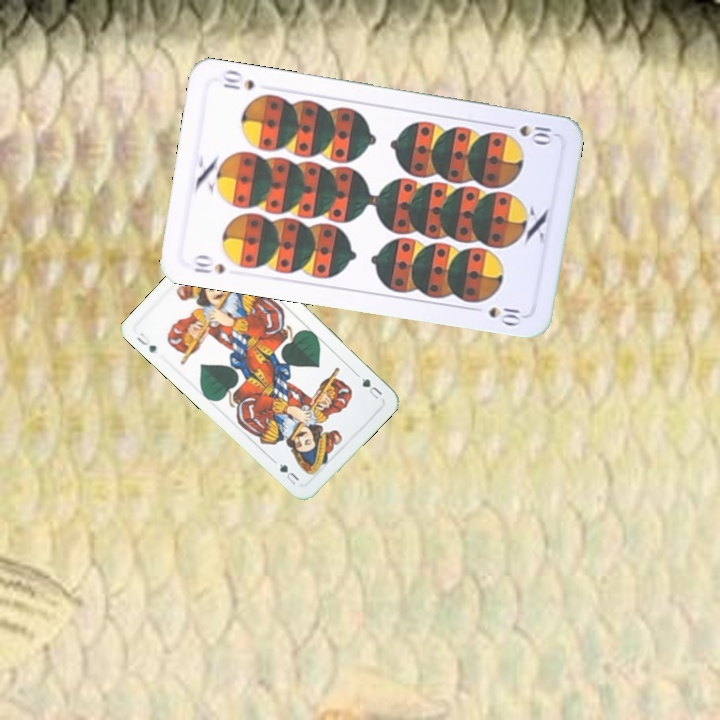GU: (358, 374, 385, 402), (132, 329, 159, 356)
S10: (515, 121, 558, 146), (188, 251, 228, 277)
